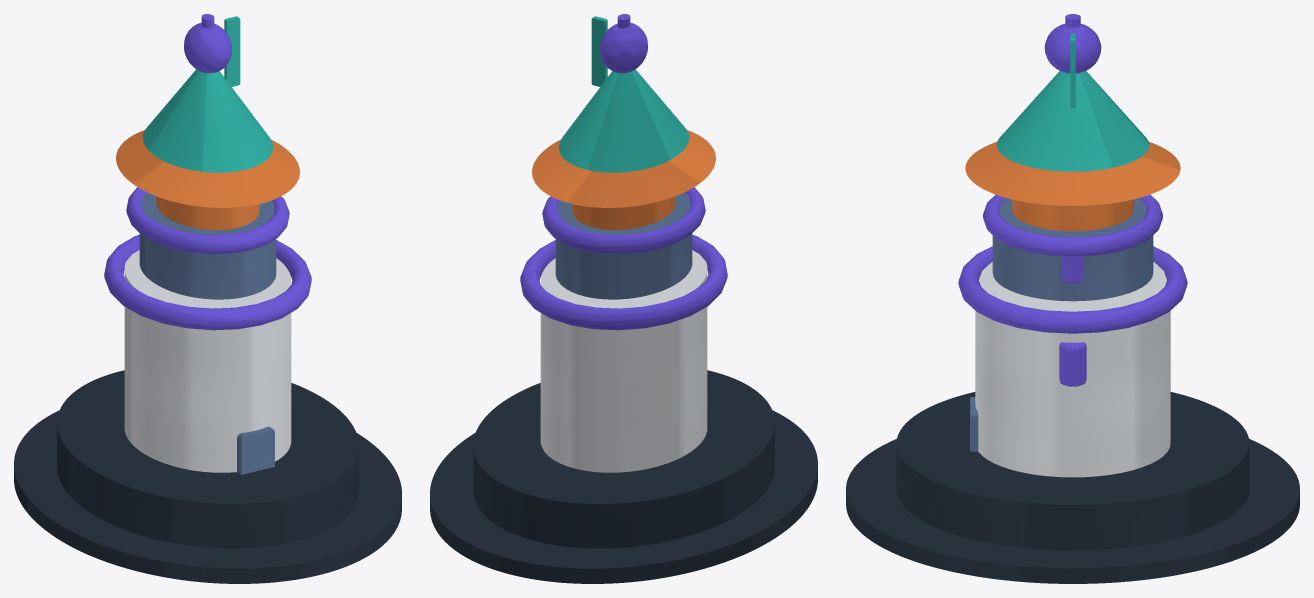
File: 0809_中国建筑图鉴_应县木塔.glb
3 views of the same model, side by side, from view 1: azimuth 30°, elevation 25°; view 2: azimuth 150°, elevation 25°; view 3: azimuth 270°, elevation 25° (orthographic). The views are drawn at different scales.
Parts seen in each view (by area): view 1: card_0809; view 2: card_0809; view 3: card_0809.
Boxes of the visible parts, box(x1,y1,x2,y2) form: card_0809: box(14, 14, 401, 583); card_0809: box(430, 14, 817, 583); card_0809: box(846, 14, 1299, 583).
Size of the model in its own units: 0.6983 by 1 by 0.8431.
